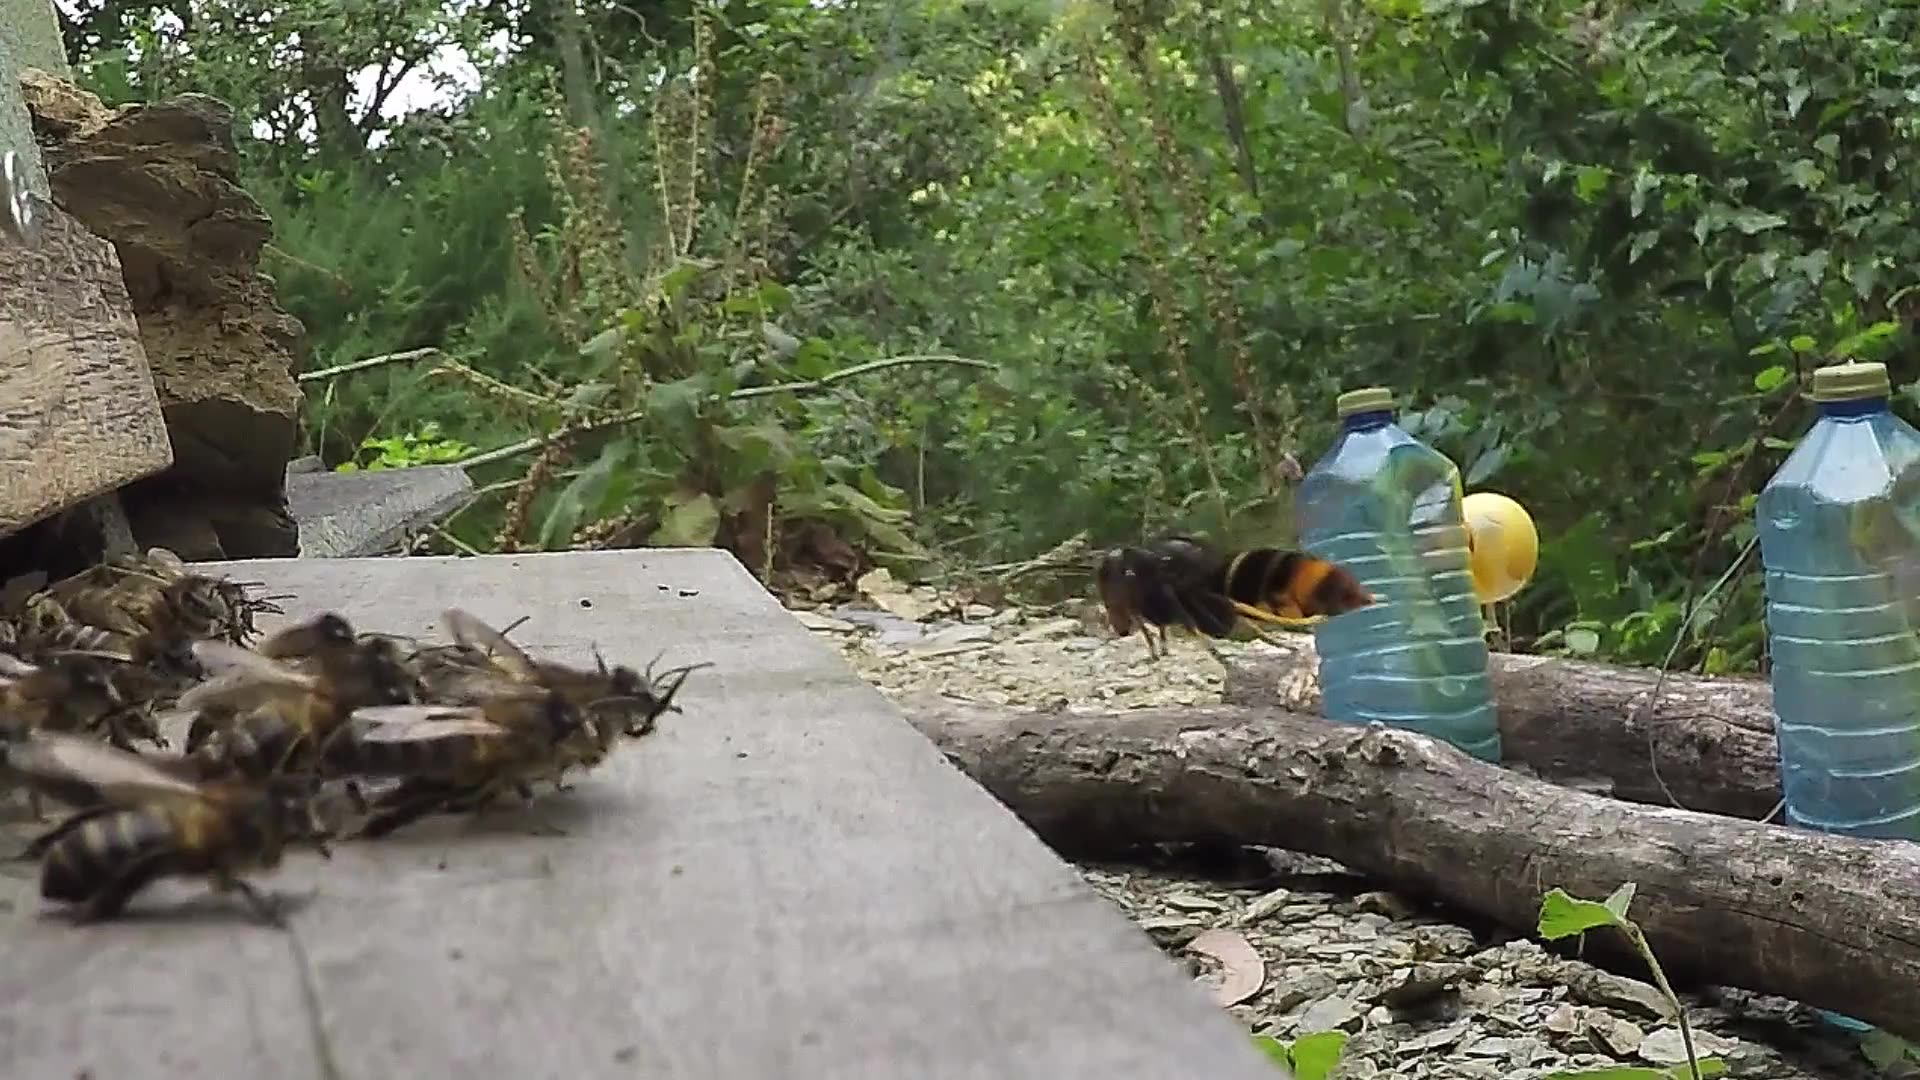bee: (1, 538, 310, 919), (309, 604, 719, 843)
hornet: (1069, 522, 1393, 667)
